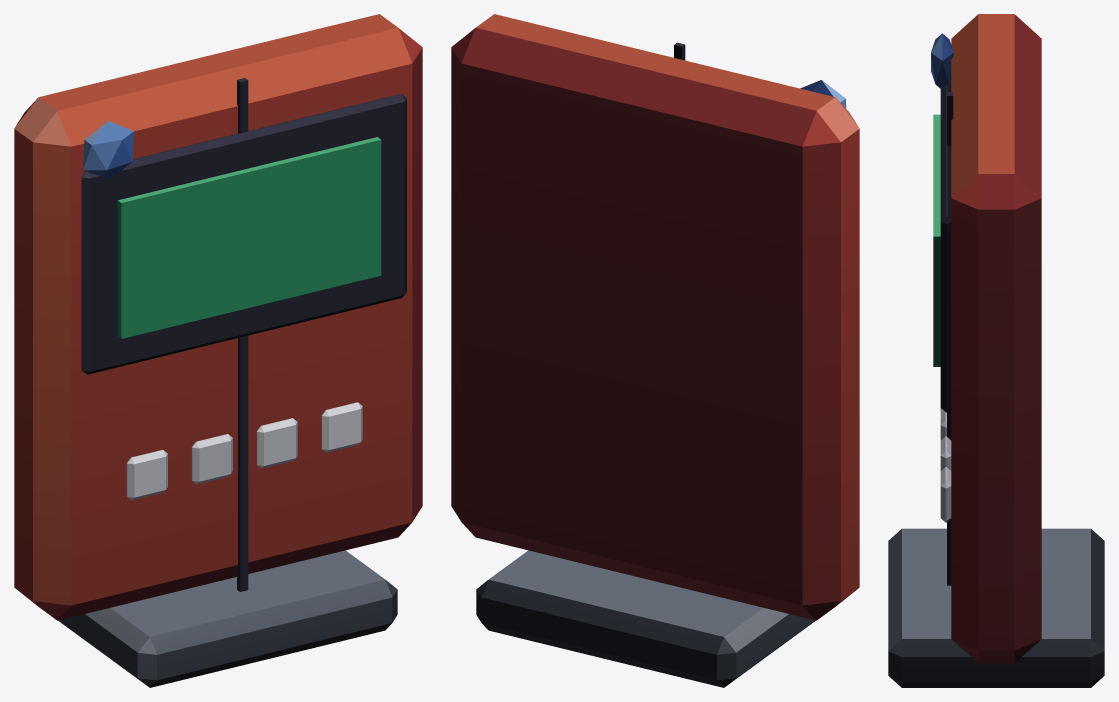
Rendered from pokedex.glb.
The picture shows the model from 3 angles, left to right: view 1: azimuth 30°, elevation 25°; view 2: azimuth 150°, elevation 25°; view 3: azimuth 270°, elevation 25°; orthographic projection. The views are drawn at different scales.
Parts seen in each view (by area): view 1: pokedex; view 2: pokedex; view 3: pokedex.
Part boxes in pixels (box(x1,y1,x2,y2)): pokedex: box(14, 14, 422, 687); pokedex: box(451, 14, 859, 687); pokedex: box(888, 14, 1104, 687).
Size of the model in its own units: 0.48 by 0.66 by 0.24.
